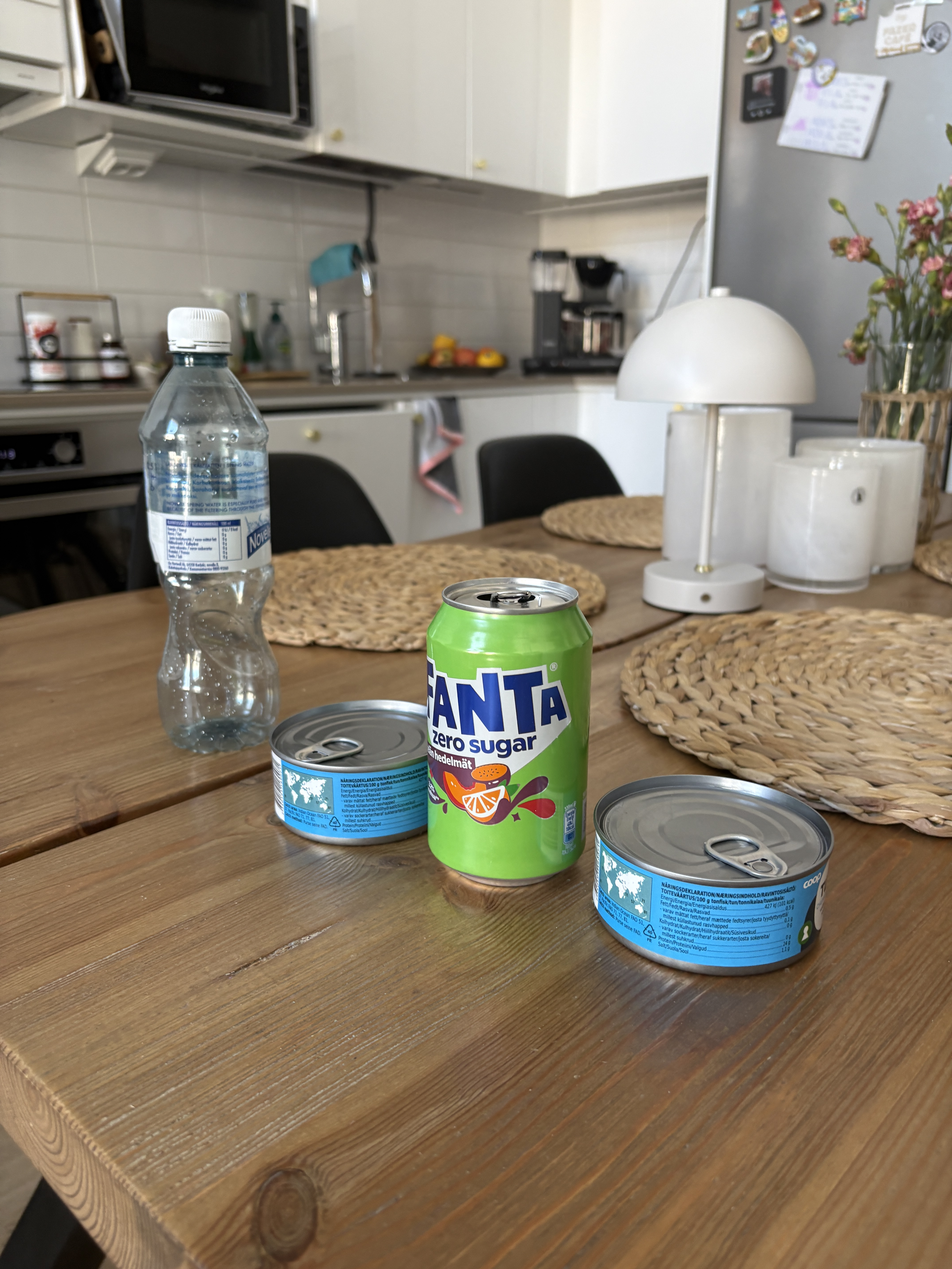Konservburk: (602, 772, 848, 982), (266, 694, 434, 836), (280, 683, 287, 694)
Pantburk: (120, 284, 277, 764), (434, 570, 599, 911)
